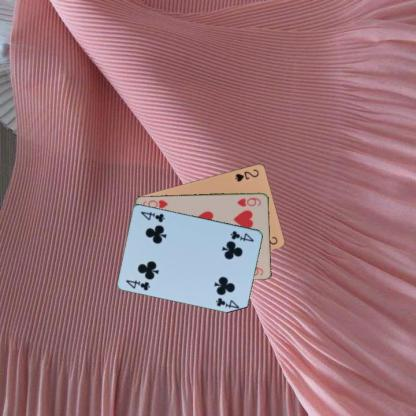2s: (232, 166, 260, 182)
4c: (228, 228, 255, 243), (124, 277, 151, 292)
6h: (235, 196, 262, 208)
